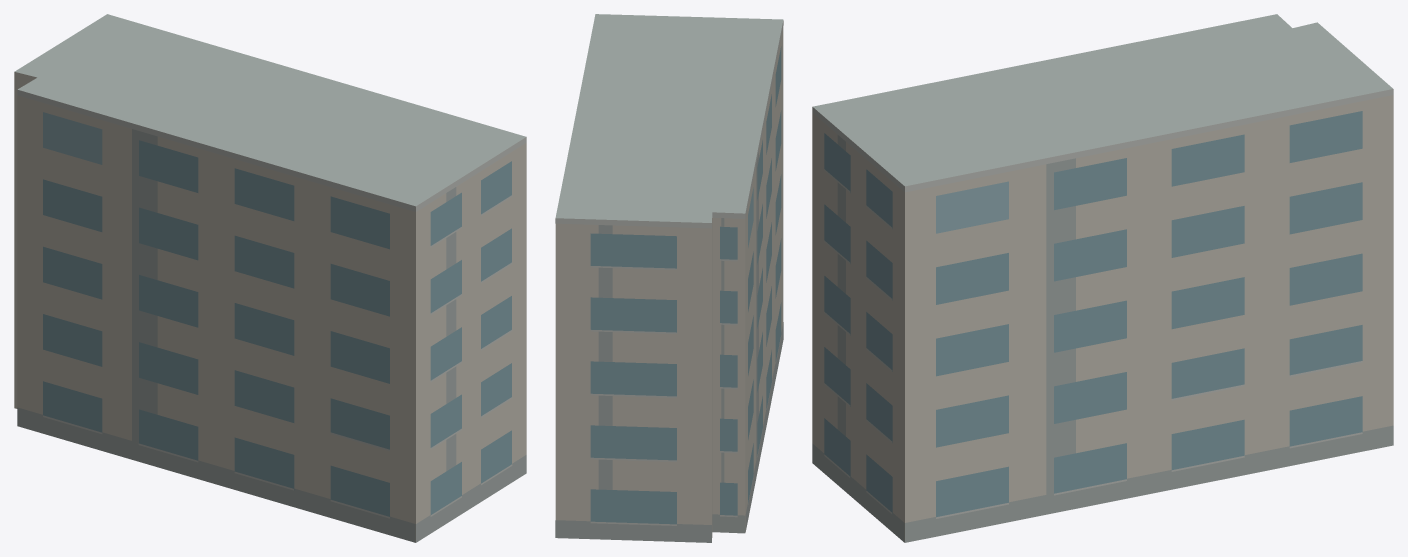
File: survey-upis-32742702.glb
3 renders of one model, left to right at view 1: azimuth 30°, elevation 25°; view 2: azimuth 150°, elevation 25°; view 3: azimuth 270°, elevation 25°, orthographic. The views are drawn at different scales.
Parts seen in each view (by area): view 1: survey-upis-32742702.tmp; view 2: survey-upis-32742702.tmp; view 3: survey-upis-32742702.tmp.
Part boxes in pixels (bbox=[...]): survey-upis-32742702.tmp: bbox=[14, 14, 526, 542]; survey-upis-32742702.tmp: bbox=[555, 14, 783, 542]; survey-upis-32742702.tmp: bbox=[812, 14, 1393, 542].
Size of the model in its own units: 14.94 by 14.4 by 21.28.
